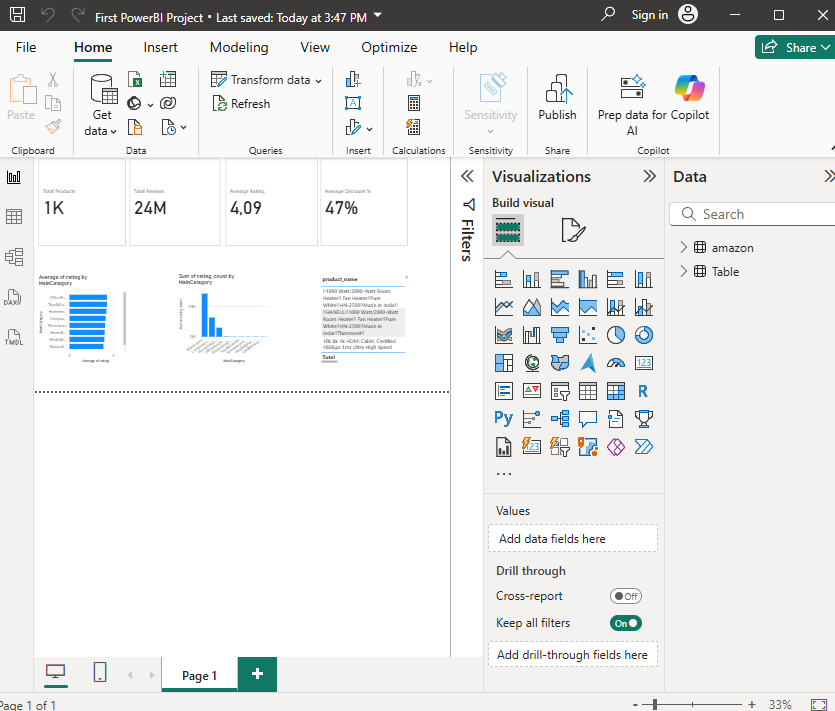

Layout of this report page (visuals, bound fields, positions):
{"tool":"powerbi","page":{"name":"Page 1","canvas":[1280,720],"ordinal":0},"visuals":[{"type":"cardVisual","fields":{"Data":["Table.Total Products"]},"box":[10.3,0,278.7,278.7],"z":0},{"type":"cardVisual","fields":{"Data":["Table.Average Discount %"]},"box":[877.4,0,278.7,278.7],"z":1000},{"type":"cardVisual","fields":{"Data":["Table.Total Reviews"]},"box":[289,0,289,278.7],"z":2000},{"type":"cardVisual","fields":{"Data":["Table.Average Rating"]},"box":[583.2,0,294.2,278.7],"z":3000},{"type":"clusteredBarChart","fields":{"Y":["Avg(amazon.rating)"],"Category":["amazon.MainCategory"]},"box":[10.3,361.3,278.7,278.7],"z":4000},{"type":"clusteredColumnChart","fields":{"Category":["amazon.MainCategory"],"Y":["Sum(amazon.rating_count)"]},"box":[440.1,356.1,288.9,282.2],"z":5000},{"type":"tableEx","fields":{"Values":["amazon.product_name","amazon.MainCategory","Sum(amazon.discount_percentage)","Sum(amazon.rating)","Sum(amazon.rating_count)","Sum(amazon.discounted_price)","Sum(amazon.actual_price)"]},"box":[877,361,279,279],"z":6000}]}

Visuals, with their boxes on the page's 1280x720 design canvas (x1, y1, x2, y2). These are canvas units, not pixel positions in the 835x711 screenshot, which may show the page scaled, cropped or inside an application window:
cardVisual - Table.Total Products: x1=10 y1=0 x2=289 y2=279
cardVisual - Table.Average Discount %: x1=877 y1=0 x2=1156 y2=279
cardVisual - Table.Total Reviews: x1=289 y1=0 x2=578 y2=279
cardVisual - Table.Average Rating: x1=583 y1=0 x2=877 y2=279
clusteredBarChart - Avg(amazon.rating) x amazon.MainCategory: x1=10 y1=361 x2=289 y2=640
clusteredColumnChart - amazon.MainCategory x Sum(amazon.rating_count): x1=440 y1=356 x2=729 y2=638
tableEx - amazon.product_name x amazon.MainCategory: x1=877 y1=361 x2=1156 y2=640
